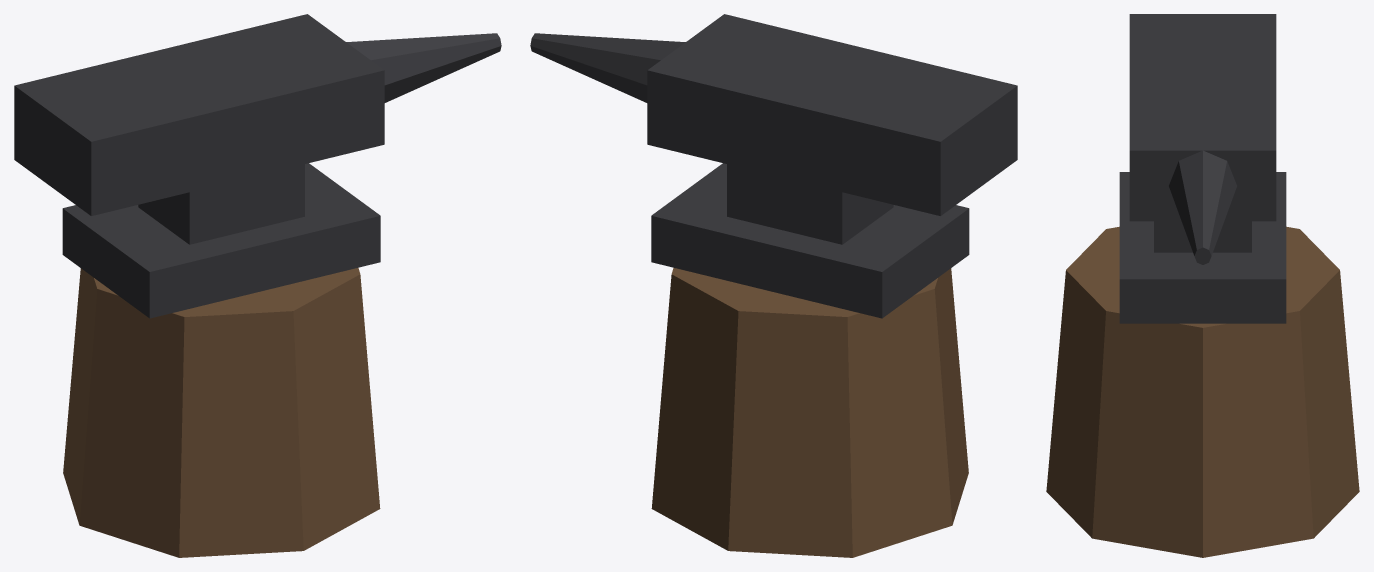
File: anvil_lod0.glb
3 renders of one model, left to right at view 1: azimuth 30°, elevation 25°; view 2: azimuth 150°, elevation 25°; view 3: azimuth 270°, elevation 25°, orthographic. The views are drawn at different scales.
Parts seen in each view (by area): view 1: anvil; view 2: anvil; view 3: anvil.
Part boxes in pixels (x1=…): anvil: x1=14, y1=14, x2=501, y2=557; anvil: x1=530, y1=14, x2=1017, y2=557; anvil: x1=1046, y1=14, x2=1359, y2=557.
Size of the model in its own units: 1 by 0.9 by 0.64.
